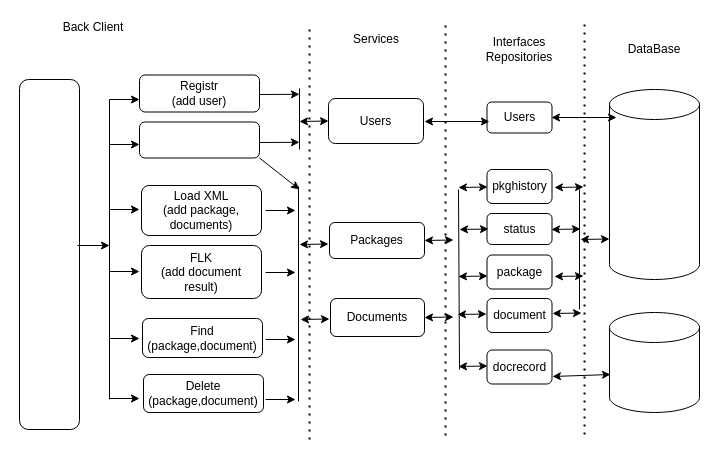
The diagram is 721 pixels wide and 459 high, and some of its shapes have lost their labels. Each missing label, with the centre of its shape:
"Login (find user)" belongs at (x=199, y=139).
"MongoDB docrecord" belongs at (x=654, y=362).
"Postgres DB user package document status pkghistory" belongs at (x=654, y=184).
"User" belongs at (x=49, y=254).
